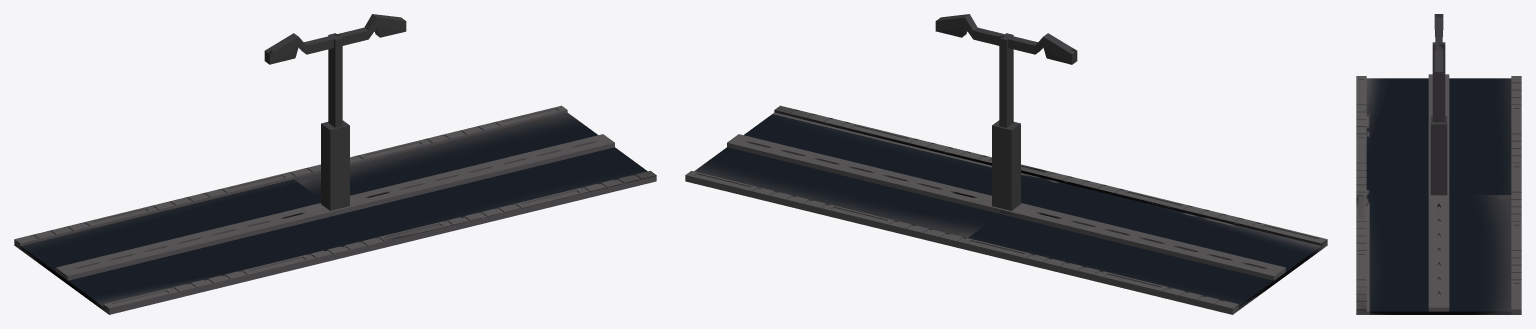
The model's file is road.gltf.
3 views of the same model, side by side, from view 1: azimuth 30°, elevation 25°; view 2: azimuth 150°, elevation 25°; view 3: azimuth 270°, elevation 25° (orthographic). The views are drawn at different scales.
Visible parts, largest first — view 1: Cube; view 2: Cube; view 3: Cube.
Boxes of the visible parts, x1,y1,x2,y2 form: Cube: [14, 14, 656, 314]; Cube: [685, 14, 1327, 314]; Cube: [1356, 14, 1521, 314].
Size of the model in its own units: 300 by 98.58 by 90.
1 material, 1 textured.
